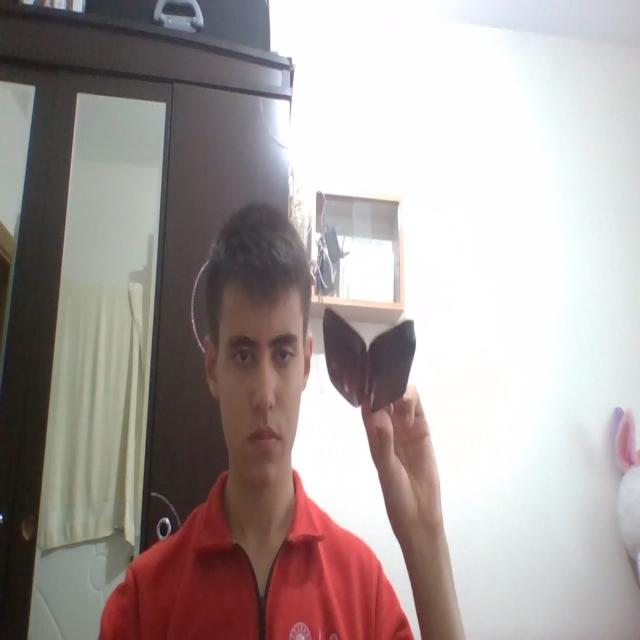glasses-box: (322, 305, 417, 413)
